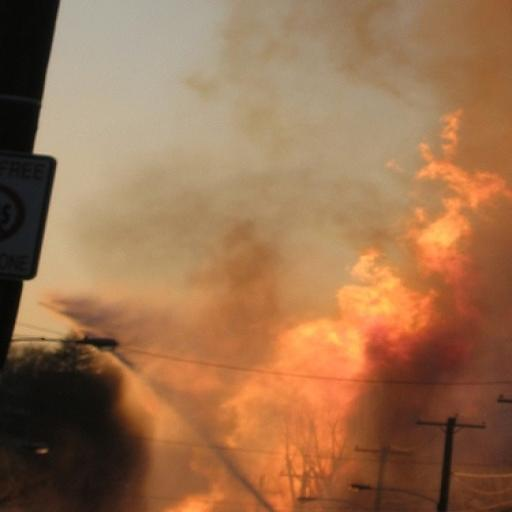fire: (70, 0, 511, 511), (62, 113, 510, 510), (280, 112, 510, 383), (280, 112, 510, 382), (279, 113, 509, 383), (287, 111, 510, 374), (278, 249, 461, 473), (407, 111, 511, 314), (409, 111, 511, 283), (338, 251, 435, 372), (417, 111, 511, 209), (272, 319, 364, 415), (338, 250, 431, 337), (410, 198, 476, 312), (414, 199, 471, 280), (280, 319, 361, 374), (163, 492, 223, 511), (442, 110, 462, 157)
smoke: (47, 0, 511, 510), (0, 340, 151, 511)
